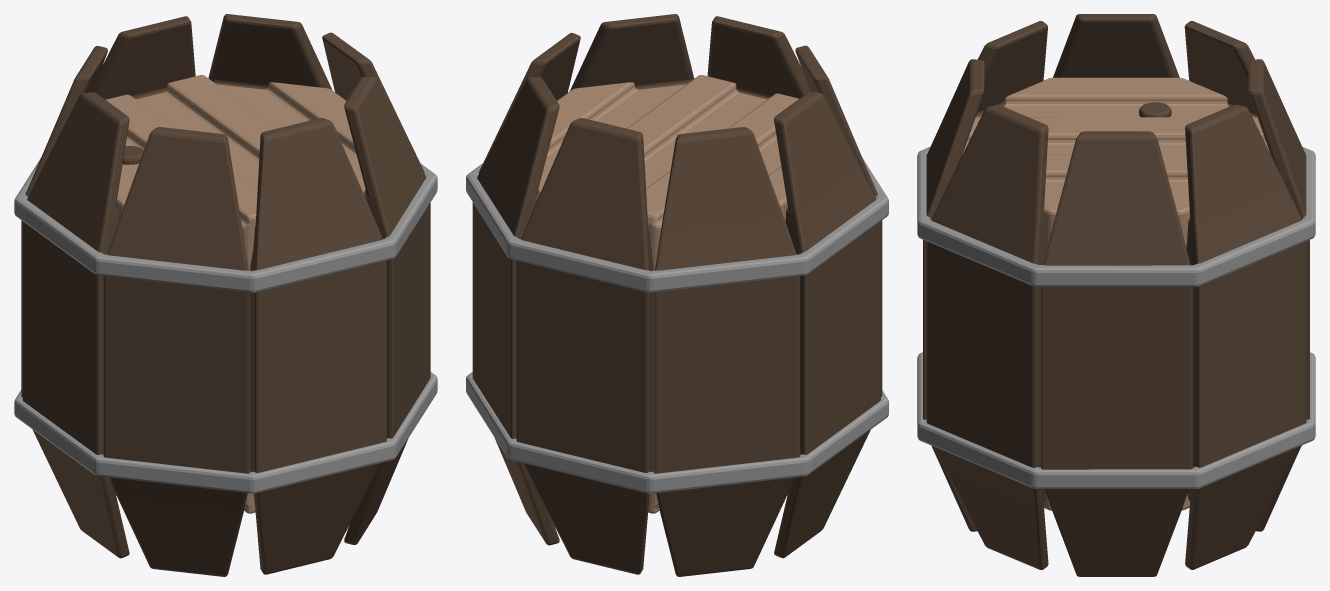
File: Barel.fbx
3 renders of one model, left to right at view 1: azimuth 30°, elevation 25°; view 2: azimuth 150°, elevation 25°; view 3: azimuth 270°, elevation 25°, orthographic.
Parts seen in each view (by area): view 1: Plane; view 2: Plane; view 3: Plane.
Part boxes in pixels (bbox=[...]): Plane: bbox=[14, 14, 437, 576]; Plane: bbox=[466, 14, 888, 576]; Plane: bbox=[917, 14, 1315, 576].
Size of the model in its own units: 332 by 406 by 332.
